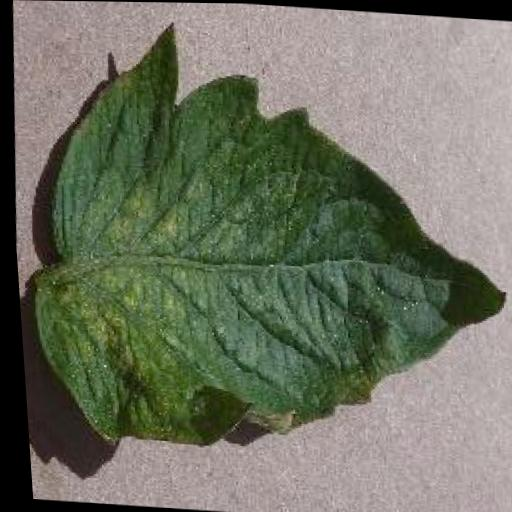Spider Mites: (10, 10, 512, 475)
